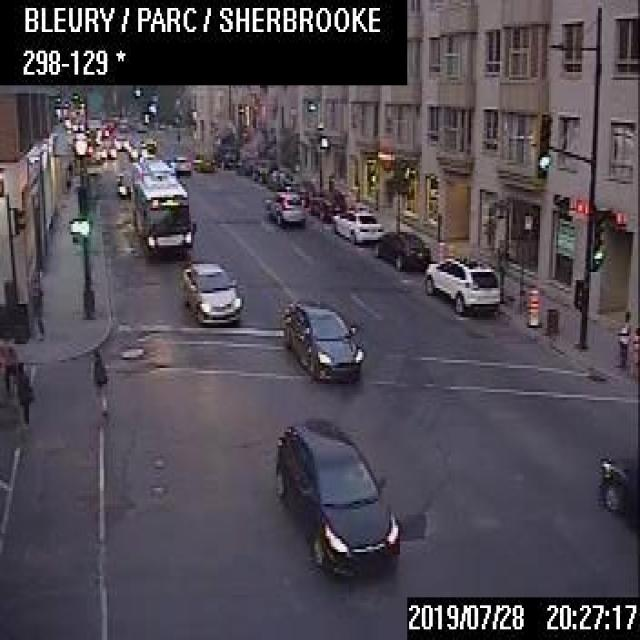bus: (130, 158, 195, 251)
construction: (526, 284, 540, 326)
pedestrian: (89, 342, 109, 416), (15, 360, 32, 423), (614, 301, 628, 367), (4, 343, 15, 396), (631, 325, 638, 368)
vehicle: (273, 419, 398, 574), (283, 296, 365, 384), (423, 254, 498, 314), (181, 260, 240, 322), (599, 452, 638, 526), (374, 228, 429, 269), (332, 204, 380, 242), (266, 184, 304, 224), (308, 189, 345, 218), (290, 178, 314, 204), (168, 154, 190, 173), (97, 138, 115, 157), (116, 171, 130, 195), (129, 141, 146, 159), (113, 133, 127, 148)
